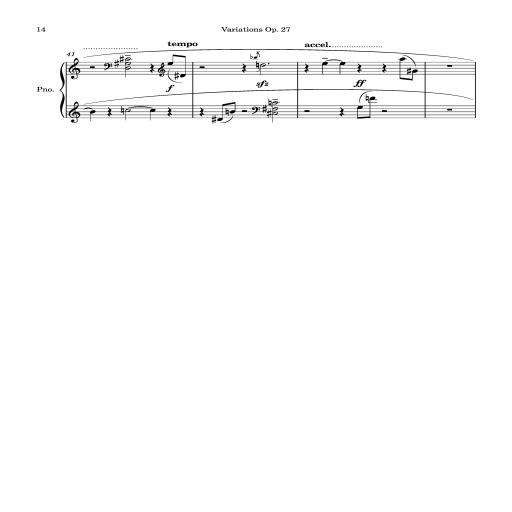base_clef: (252, 106, 260, 114), (104, 63, 112, 70)
dotted_half_note: (260, 63, 270, 75)
eighth_note: (364, 97, 376, 119), (217, 103, 227, 121), (180, 54, 186, 78), (400, 58, 406, 80), (408, 69, 418, 81), (168, 54, 178, 65), (229, 102, 236, 114), (357, 106, 363, 119), (254, 51, 260, 59)
flat: (250, 54, 253, 59)
forte: (166, 85, 174, 92)
fortissimo: (354, 80, 366, 87)
half_note: (125, 57, 131, 78), (273, 101, 278, 123), (125, 62, 131, 78), (273, 107, 278, 123), (125, 66, 131, 78), (125, 109, 131, 120), (272, 112, 278, 123)
half_rest: (381, 109, 388, 112), (199, 65, 205, 68), (304, 109, 310, 112), (90, 65, 95, 68), (242, 109, 247, 112)
natural: (268, 99, 272, 107), (256, 61, 259, 69), (366, 94, 368, 102), (226, 108, 228, 116)
note_head: (125, 57, 131, 61), (125, 66, 131, 70), (260, 63, 266, 67), (400, 57, 406, 61), (412, 69, 418, 73), (90, 110, 96, 114), (230, 110, 236, 114), (272, 101, 278, 105), (272, 107, 278, 111), (370, 96, 376, 100), (180, 74, 185, 78), (125, 62, 131, 65), (322, 62, 328, 65), (340, 62, 346, 65), (125, 109, 131, 112), (150, 109, 156, 112), (217, 118, 223, 121), (357, 106, 363, 109), (168, 62, 173, 65), (273, 112, 278, 115), (254, 56, 257, 58)
quarter_note: (322, 62, 328, 74), (150, 109, 156, 120), (340, 62, 345, 74), (90, 110, 95, 122)
quarter_rest: (304, 64, 310, 72), (242, 64, 247, 72), (357, 64, 362, 72), (382, 64, 387, 72), (150, 64, 154, 72), (108, 108, 112, 116), (168, 108, 172, 116), (200, 108, 204, 116), (340, 108, 344, 116)
sforzato: (256, 80, 269, 88)
sharp: (115, 59, 119, 68), (175, 71, 179, 80), (120, 55, 124, 63)
sharp_accidental: (212, 115, 216, 124), (267, 109, 271, 118), (407, 67, 411, 75), (263, 105, 267, 113)
slur_sign: (83, 89, 473, 105), (83, 49, 473, 61), (168, 68, 182, 82), (402, 55, 416, 67), (360, 92, 372, 104), (220, 116, 233, 123), (128, 106, 153, 108), (325, 60, 343, 62), (256, 67, 260, 72), (83, 108, 93, 110)
staff: (66, 106, 476, 118), (66, 62, 476, 74)
treble_clef: (69, 101, 81, 123), (68, 58, 80, 79), (158, 62, 165, 76)
whole_rest: (446, 109, 453, 112), (446, 65, 452, 68)
